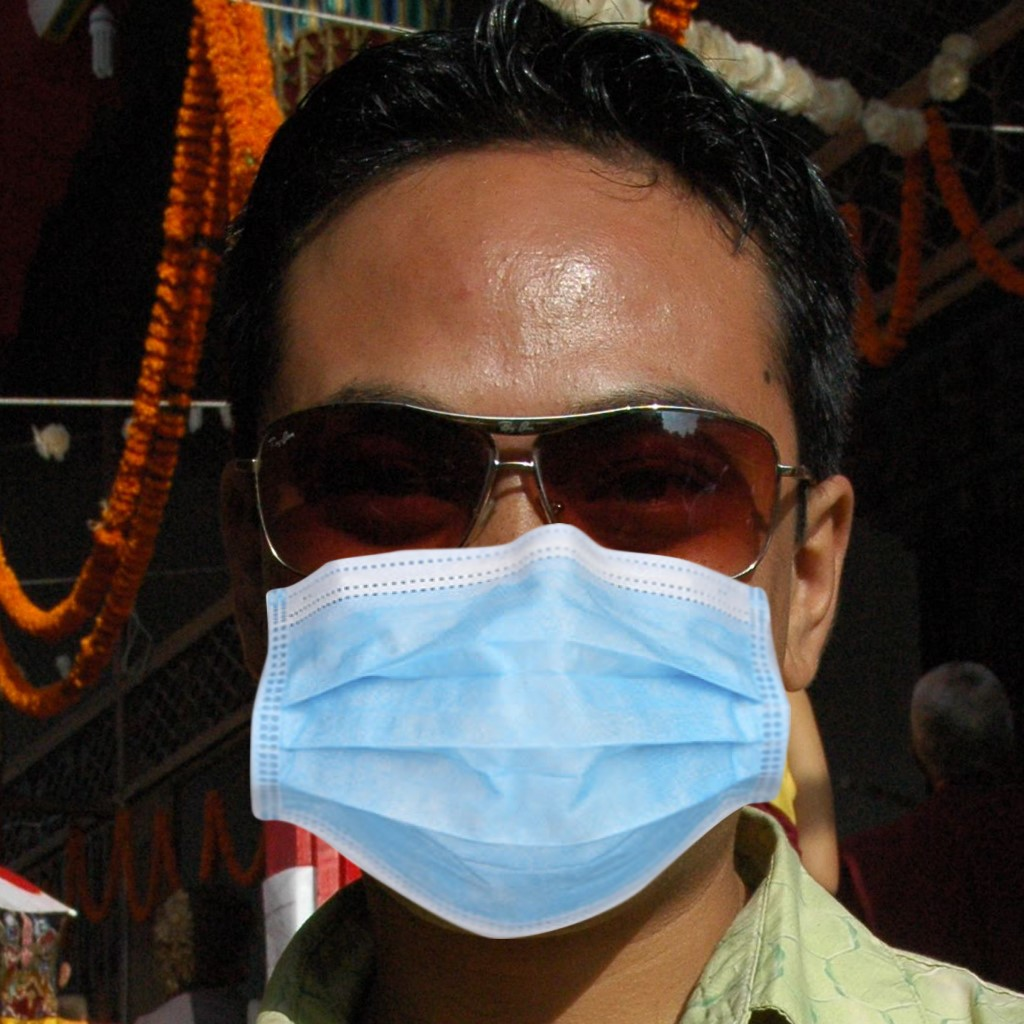con_mascara: (218, 141, 799, 926)
